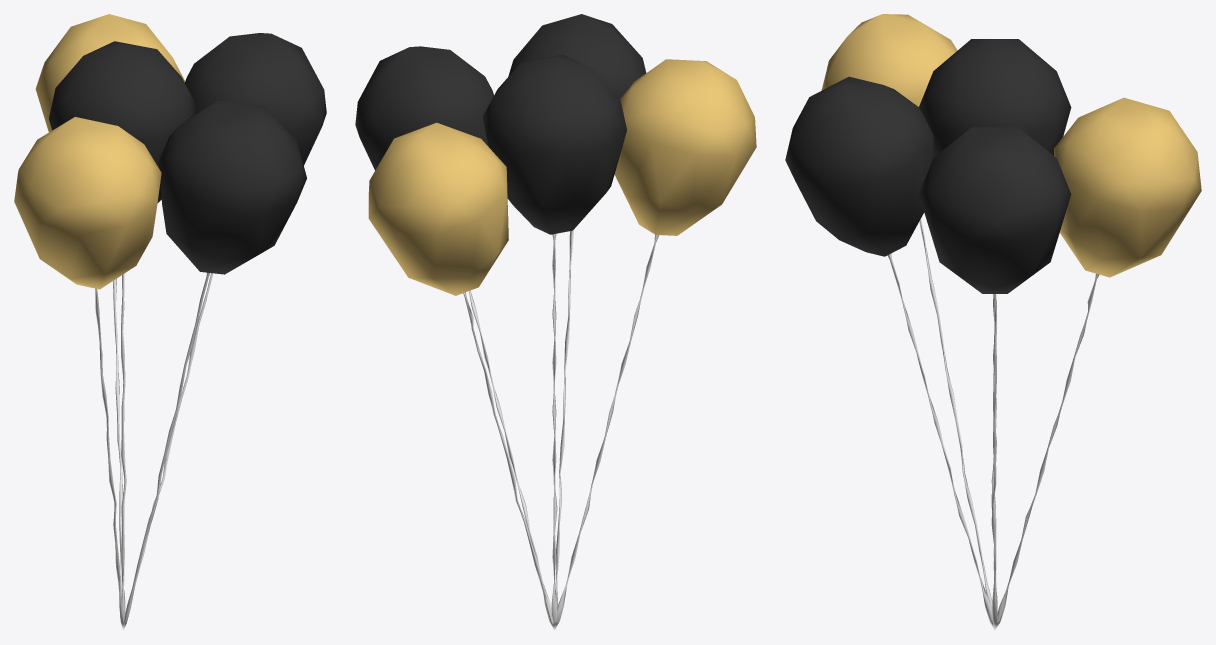
Rendered from balloons.fbx.
The picture shows the model from 3 angles, left to right: view 1: azimuth 30°, elevation 25°; view 2: azimuth 150°, elevation 25°; view 3: azimuth 270°, elevation 25°; orthographic projection. The views are drawn at different scales.
Visible parts, largest first — view 1: Balloons; view 2: Balloons; view 3: Balloons.
Boxes of the visible parts, bbox=[...] form: Balloons: bbox=[14, 14, 326, 630]; Balloons: bbox=[355, 14, 756, 630]; Balloons: bbox=[785, 14, 1201, 630].
Bounding box in the file's own units: 37.02 × 60.83 × 38.87.
